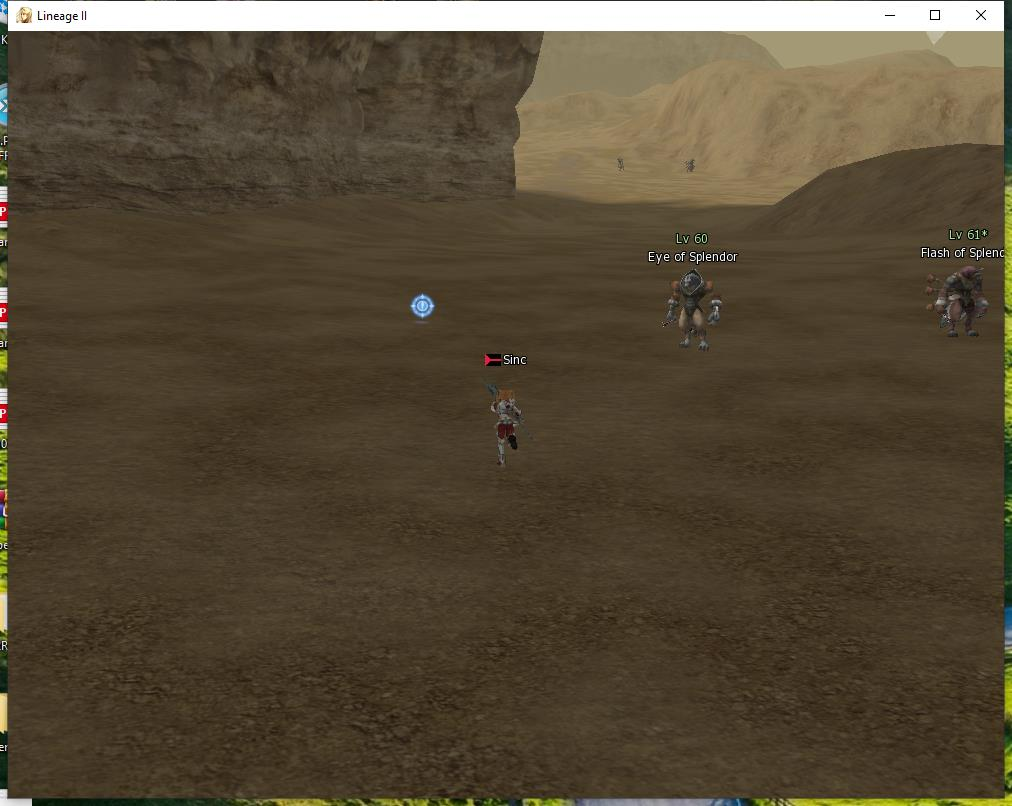monster: (647, 219, 745, 350), (929, 213, 1008, 341), (679, 153, 707, 181), (617, 151, 623, 174)
